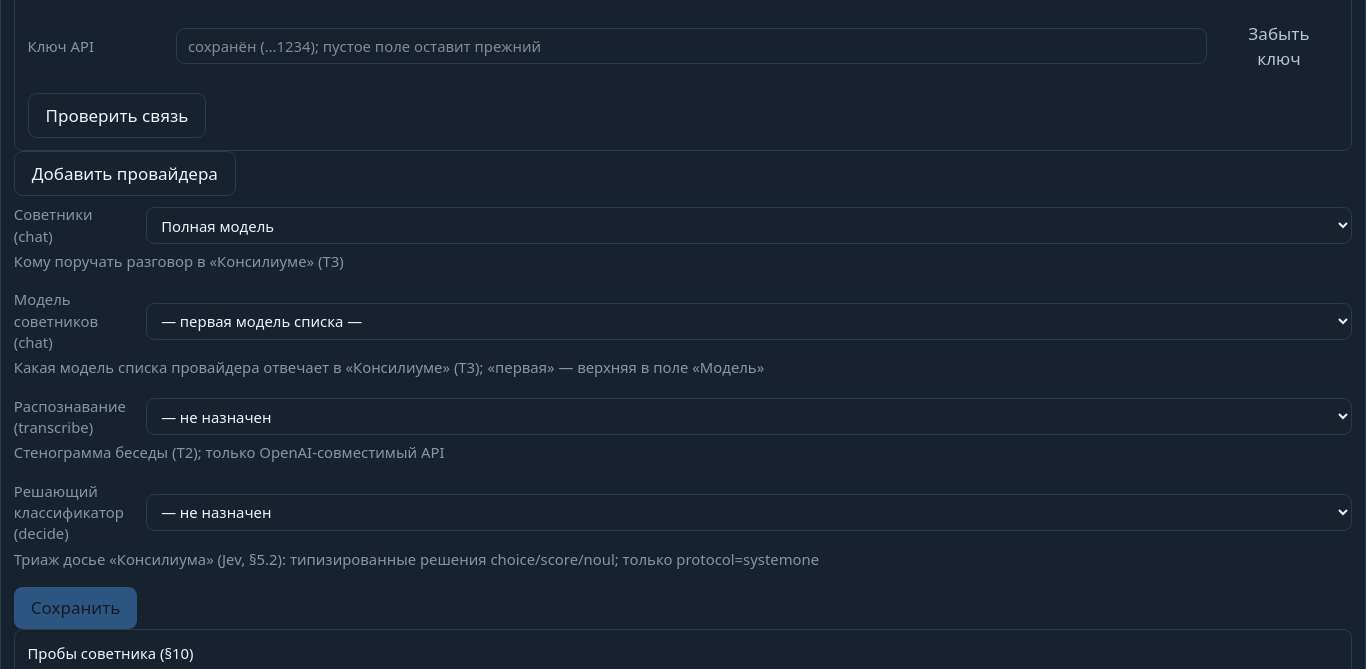
панель «Модельный роутер ИИ» › сохранение блокируется, если модель маршрута выпала из списка провайдера
This screenshot has width=1366, height=669.
(page scrolled)
Select "big-model-1" in the dropdown labelled "Модель советников (chat)" at point(749, 321), box [146, 303, 1352, 340]
(page scrolled)
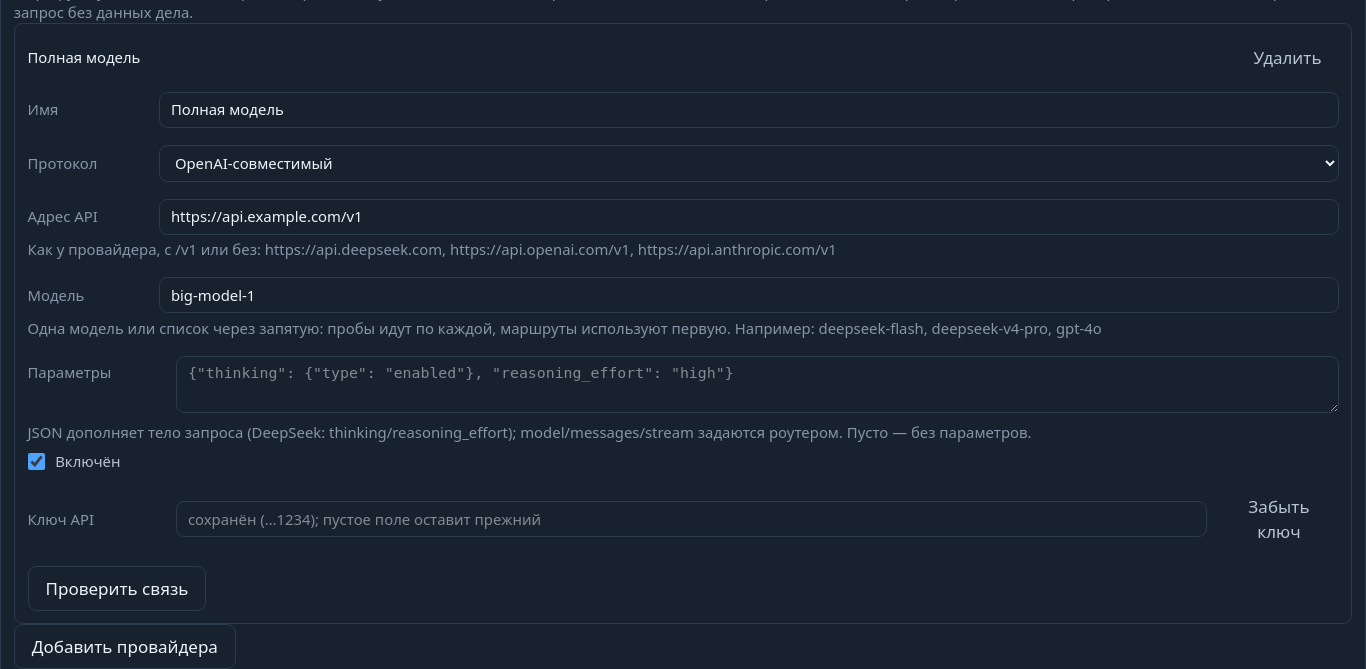
Replace the text in the field labelled "Модель" with "other-model" at point(749, 295), box [159, 277, 1339, 313]
(page scrolled)
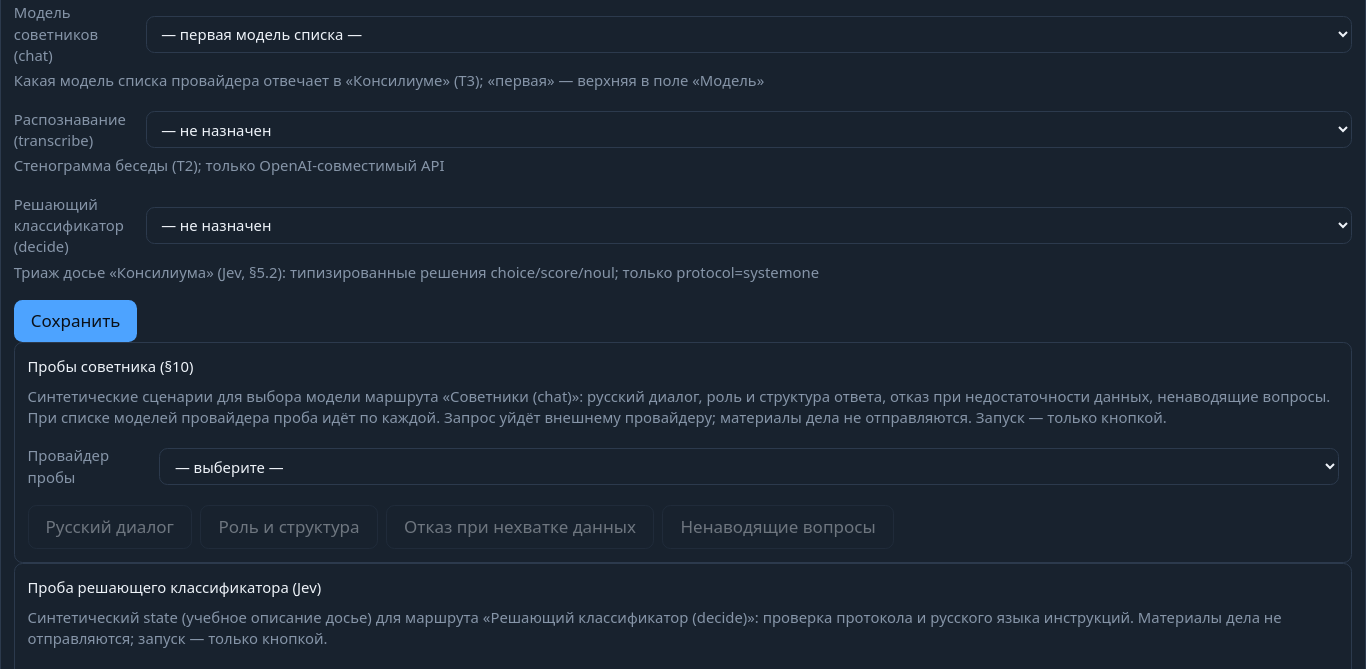
Click the button "Сохранить" at point(76, 321), box [14, 300, 137, 342]
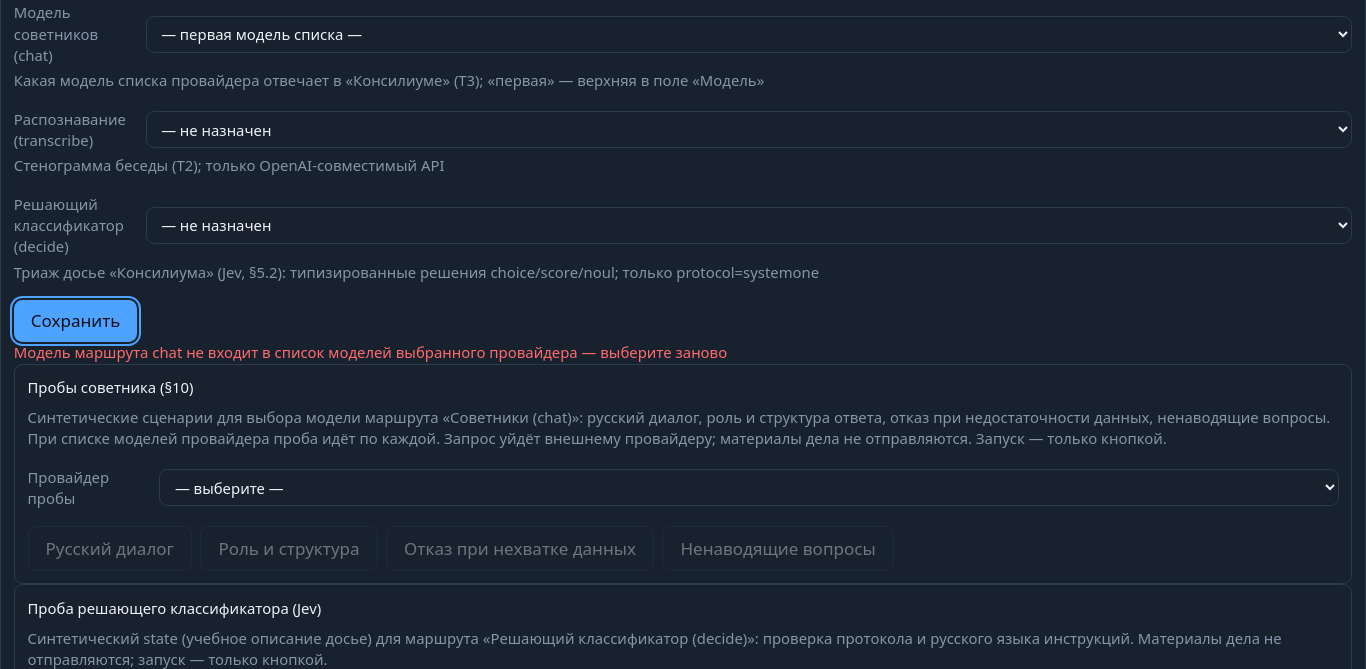
Result: the text "Модель маршрута chat не входит в список моделей" is shown at [14, 342, 727, 362]
